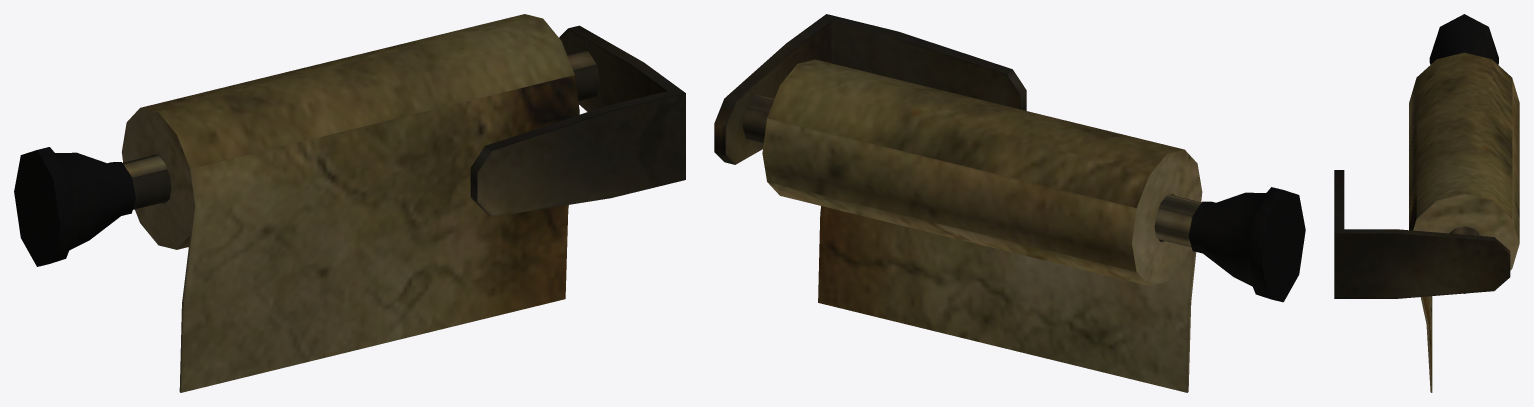
Rendered from Toilet_Paper.FBX.
3 renders of one model, left to right at view 1: azimuth 30°, elevation 25°; view 2: azimuth 150°, elevation 25°; view 3: azimuth 270°, elevation 25°, orthographic. The views are drawn at different scales.
Parts seen in each view (by area): view 1: 042_vray; view 2: 042_vray; view 3: 042_vray.
Boxes of the visible parts, x1,y1,x2,y2 form: 042_vray: (14, 14, 685, 392); 042_vray: (714, 14, 1305, 392); 042_vray: (1334, 14, 1519, 392).
Bounding box in the file's own units: 43.96 × 19.75 × 16.66.
